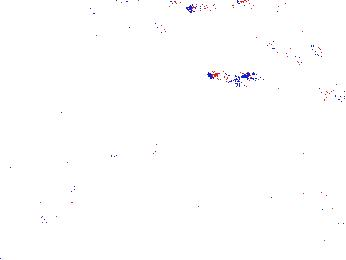glassfish: (69, 132, 181, 185)
red belly glassfish: (204, 66, 248, 83), (315, 56, 346, 70), (320, 89, 346, 104)
redtail glassfish: (87, 3, 173, 37), (262, 36, 321, 58), (184, 1, 249, 16)
